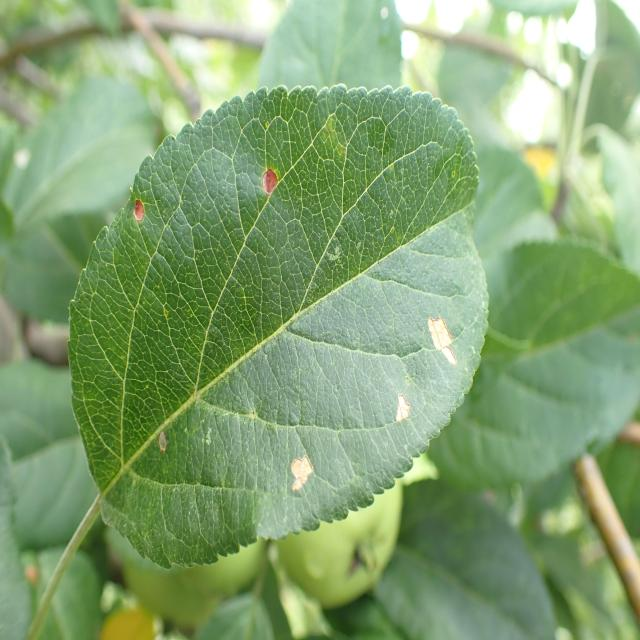Black Rot: (418, 302, 472, 390), (129, 186, 168, 259), (289, 425, 319, 510), (258, 145, 289, 221), (382, 391, 423, 441), (146, 414, 181, 472)
